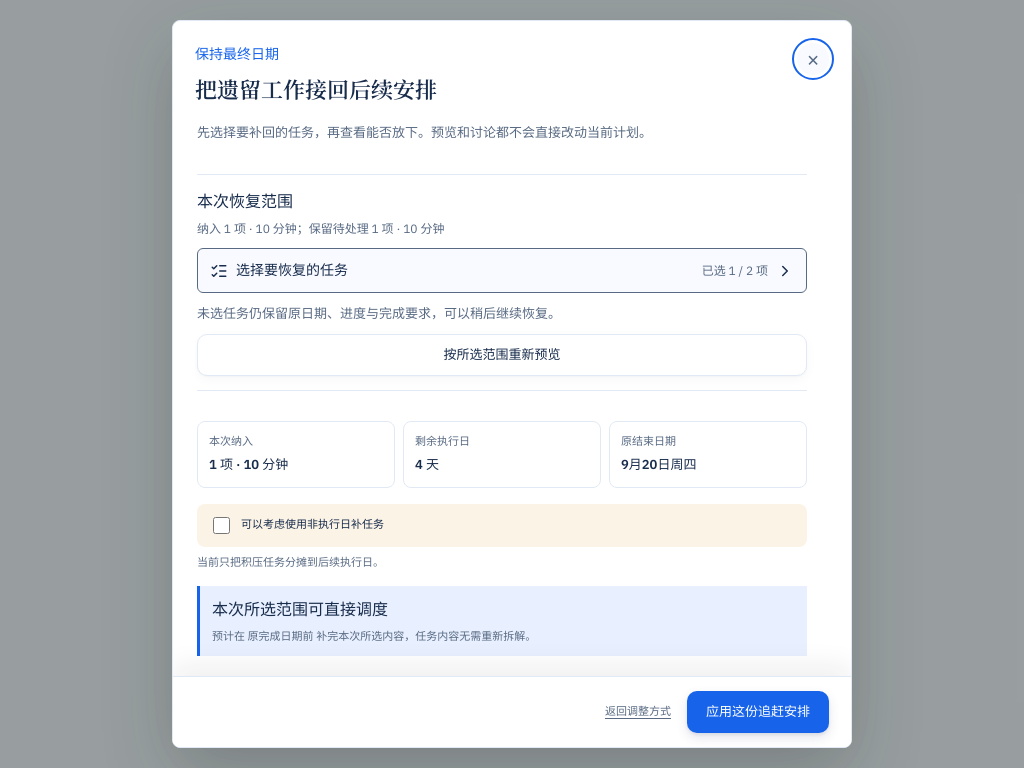
Test case: apply conflict plus failed retry retains the original selection
Step 1. Click the button "应用这份追赶安排" → (758, 712), box [687,691,829,733]
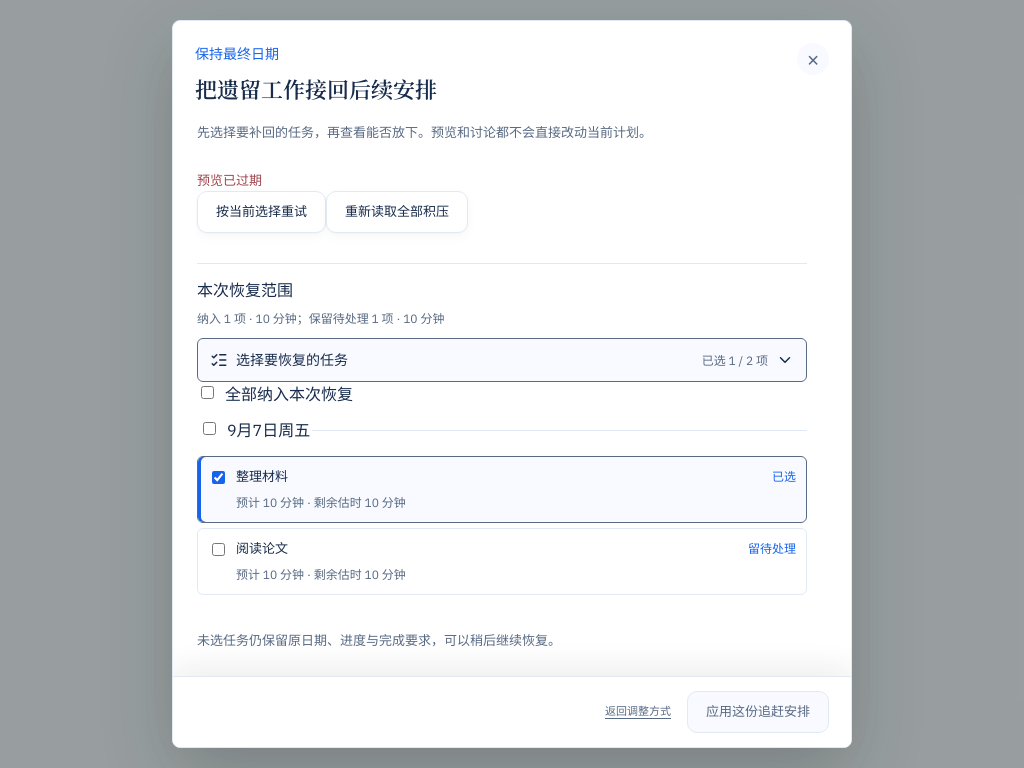
Now the text "预览已过期" is shown, box [197,172,262,189]
Now the button "应用这份追赶安排" is disabled, box [687,691,829,733]
Now the button "重新读取全部积压" is enabled, box [326,191,468,233]
